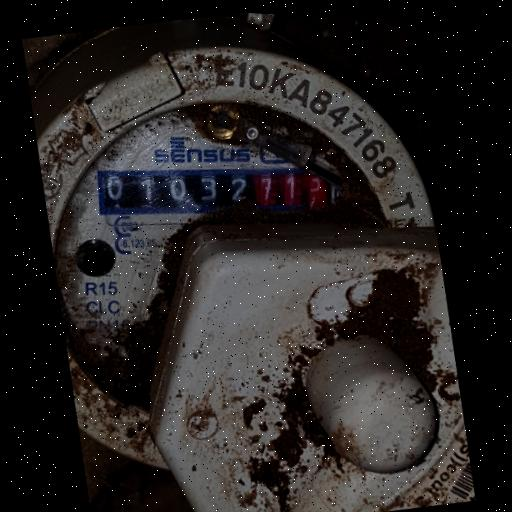0: (97, 169, 137, 213), (157, 170, 197, 211)
1: (125, 171, 166, 213), (274, 168, 309, 209)
2: (218, 169, 256, 210)
3: (186, 169, 227, 212), (298, 170, 331, 212)
7: (245, 169, 284, 210)
border_water_meter_number: (90, 130, 337, 251)
